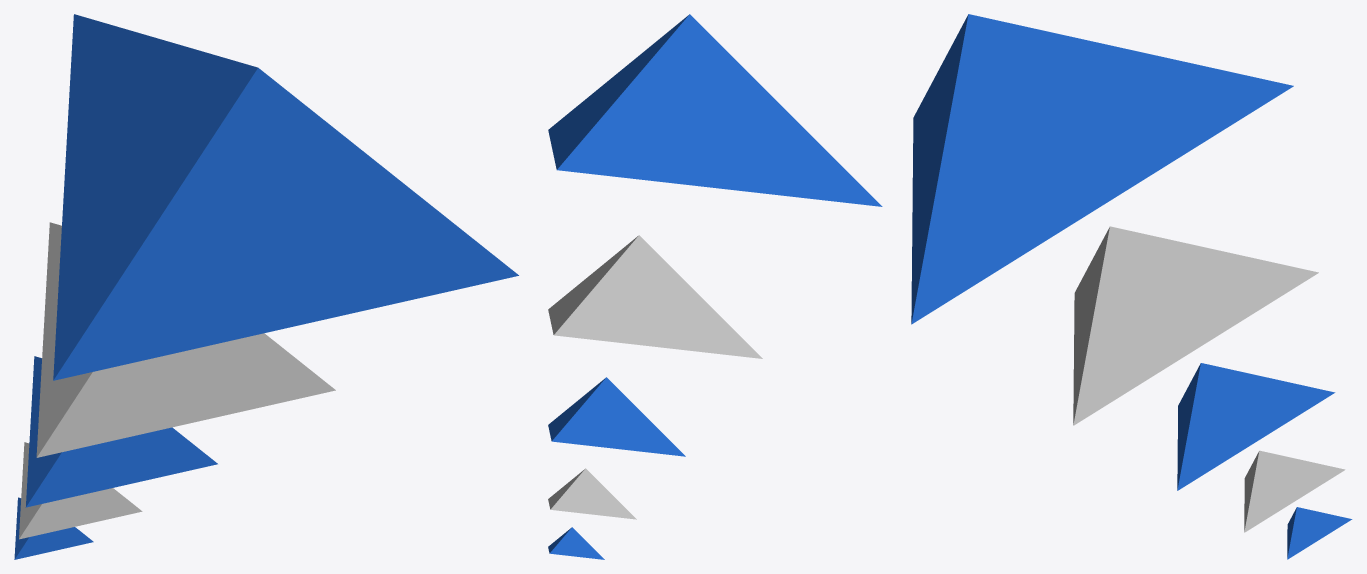
Rendered from enemyB.obj.
3 views of the same model, side by side, from view 1: azimuth 30°, elevation 25°; view 2: azimuth 150°, elevation 25°; view 3: azimuth 270°, elevation 25° (orthographic). The views are drawn at different scales.
Parts seen in each view (by area): view 1: Cube_Cube.001; view 2: Cube_Cube.001; view 3: Cube_Cube.001.
Boxes of the visible parts, <box> form: Cube_Cube.001: <box>14,14,518,559</box>; Cube_Cube.001: <box>548,14,882,559</box>; Cube_Cube.001: <box>911,14,1352,559</box>.
Bounding box in the file's own units: 5.36 × 6.72 × 4.98.
